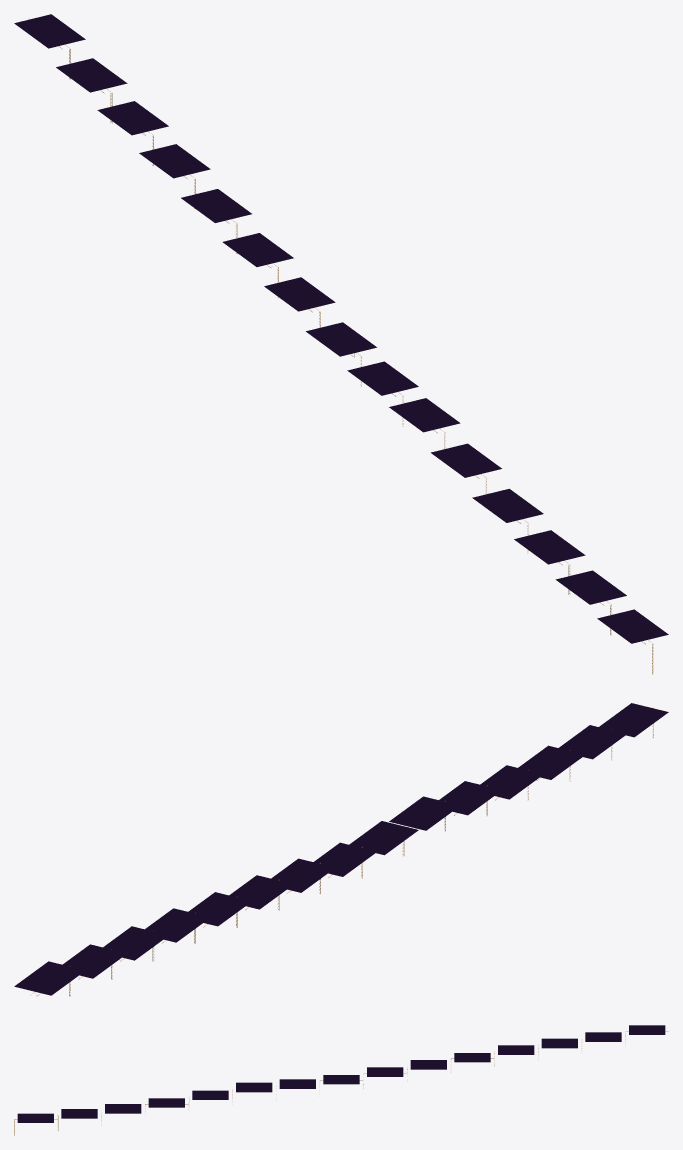
The model's file is Solar_Panel_Units_All_Together.glb.
The picture shows the model from 3 angles, top to bottom: view 1: azimuth 30°, elevation 25°; view 2: azimuth 150°, elevation 25°; view 3: azimuth 270°, elevation 25°; orthographic projection. The views are drawn at different scales.
Parts seen in each view (by area): view 1: SolarPanel_M.019, SolarPanel_M.014, SolarPanel_M.018, SolarPanel_M.021, SolarPanel_M.024, SolarPanel_M.012, SolarPanel_M.013, SolarPanel_M.016, SolarPanel_M.017, SolarPanel_M.020, SolarPanel_M.001, SolarPanel_M.015 (+3 smaller); view 2: SolarPanel_M.012, SolarPanel_M.021, SolarPanel_M.001, SolarPanel_M.020, SolarPanel_M.025, SolarPanel_M.024, SolarPanel_M.014, SolarPanel_M.015, SolarPanel_M.013, SolarPanel_M.017, SolarPanel_M.018, SolarPanel_M.016 (+3 smaller); view 3: SolarPanel_M.014, SolarPanel_M.021, SolarPanel_M.012, SolarPanel_M.013, SolarPanel_M.015, SolarPanel_M.016, SolarPanel_M.017, SolarPanel_M.018, SolarPanel_M.019, SolarPanel_M.020, SolarPanel_M.022, SolarPanel_M.023 (+3 smaller).
Part boxes in pixels (<box>): SolarPanel_M.019: <box>306,322,376,357</box>; SolarPanel_M.014: <box>97,101,168,135</box>; SolarPanel_M.018: <box>264,277,335,312</box>; SolarPanel_M.021: <box>389,398,460,433</box>; SolarPanel_M.024: <box>514,530,585,565</box>; SolarPanel_M.012: <box>14,14,85,49</box>; SolarPanel_M.013: <box>56,58,127,93</box>; SolarPanel_M.016: <box>181,189,251,223</box>; SolarPanel_M.017: <box>222,233,293,267</box>; SolarPanel_M.020: <box>347,361,418,396</box>; SolarPanel_M.001: <box>597,609,668,644</box>; SolarPanel_M.015: <box>139,144,210,178</box>; SolarPanel_M.012: <box>14,961,85,996</box>; SolarPanel_M.021: <box>389,796,460,830</box>; SolarPanel_M.001: <box>599,703,668,737</box>; SolarPanel_M.020: <box>349,821,418,855</box>; SolarPanel_M.025: <box>558,725,626,759</box>; SolarPanel_M.024: <box>518,745,585,780</box>; SolarPanel_M.014: <box>103,926,168,961</box>; SolarPanel_M.015: <box>145,908,210,943</box>; SolarPanel_M.013: <box>63,944,127,979</box>; SolarPanel_M.017: <box>229,875,293,910</box>; SolarPanel_M.018: <box>271,858,335,893</box>; SolarPanel_M.016: <box>188,892,252,927</box>; SolarPanel_M.014: <box>541,1038,577,1048</box>; SolarPanel_M.021: <box>236,1082,272,1092</box>; SolarPanel_M.012: <box>629,1025,665,1034</box>; SolarPanel_M.013: <box>585,1032,621,1041</box>; SolarPanel_M.015: <box>498,1045,534,1054</box>; SolarPanel_M.016: <box>454,1053,490,1062</box>; SolarPanel_M.017: <box>410,1060,446,1069</box>; SolarPanel_M.018: <box>367,1067,403,1076</box>; SolarPanel_M.019: <box>323,1075,359,1084</box>; SolarPanel_M.020: <box>279,1079,315,1088</box>; SolarPanel_M.022: <box>192,1090,228,1099</box>; SolarPanel_M.023: <box>148,1098,184,1107</box>.
Size of the model in its own units: 2.5 by 12.85 by 72.3.
